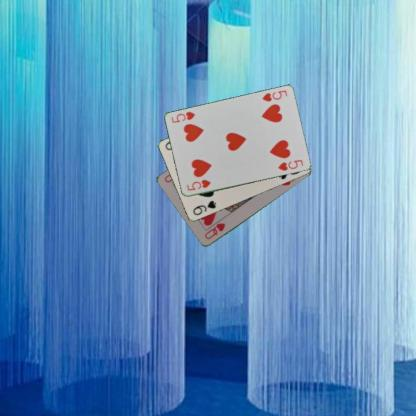5h: (260, 88, 288, 103), (184, 177, 211, 192)
9s: (190, 198, 217, 217)
Qh: (202, 221, 227, 240)
